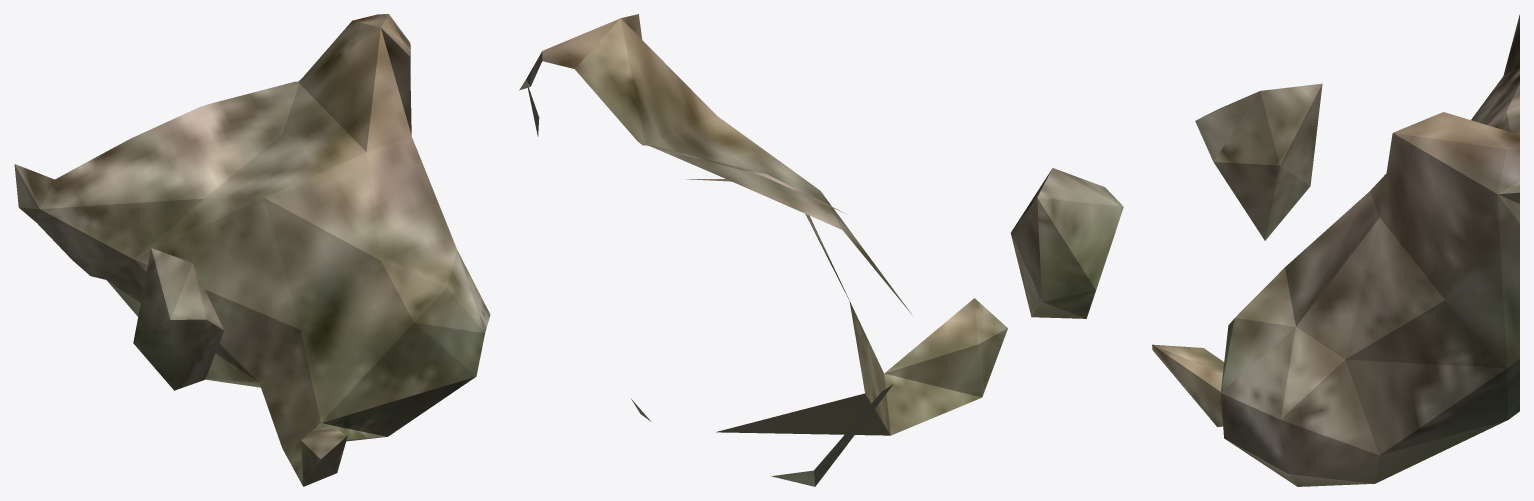
3 views of the same model, side by side, from view 1: azimuth 30°, elevation 25°; view 2: azimuth 150°, elevation 25°; view 3: azimuth 270°, elevation 25° (orthographic). The views are drawn at different scales.
Size of the model in its own units: 0.5844 by 0.5052 by 0.4141.
1 material, 1 textured.
